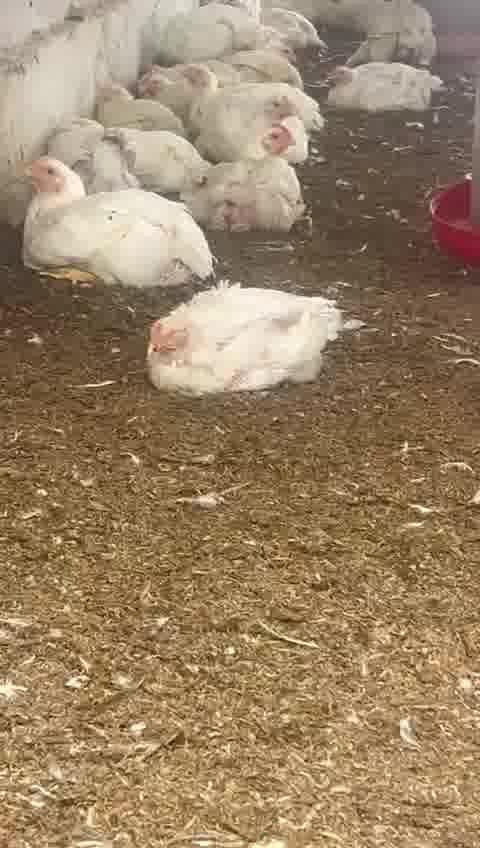AbNormal: (17, 156, 216, 288), (147, 285, 343, 393), (192, 123, 304, 231), (324, 63, 442, 112)
